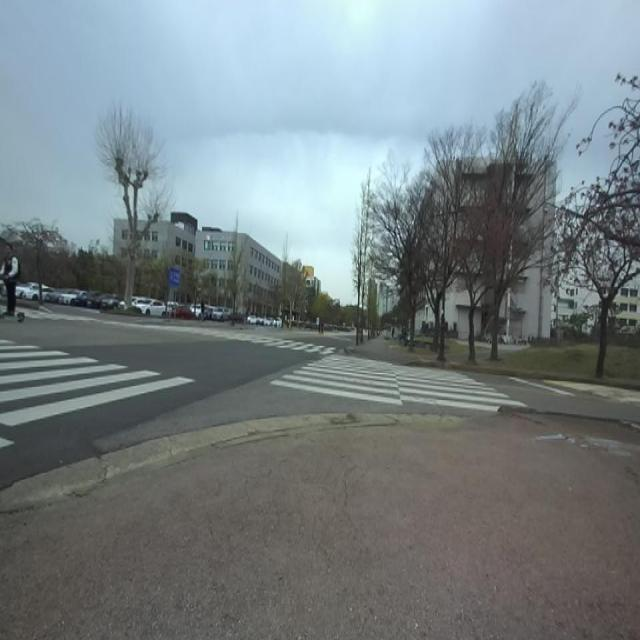sidewalk: (0, 412, 640, 640), (345, 340, 468, 365)
